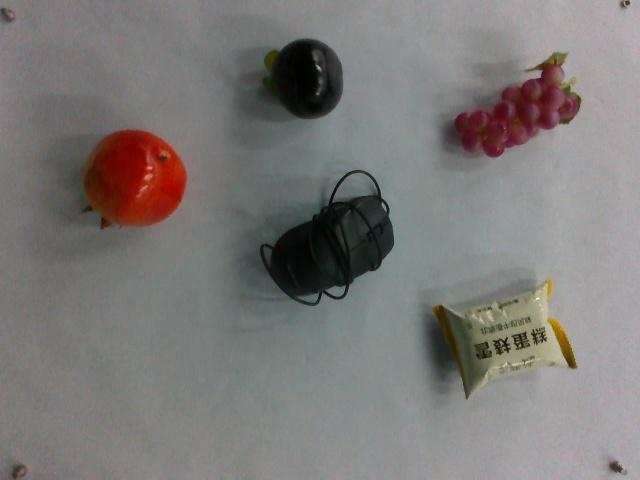dessert: (439, 281, 570, 401)
grape: (451, 50, 579, 167)
mangosteen: (258, 39, 343, 124)
mouse: (258, 175, 396, 309)
pomegranate: (84, 132, 185, 238)
